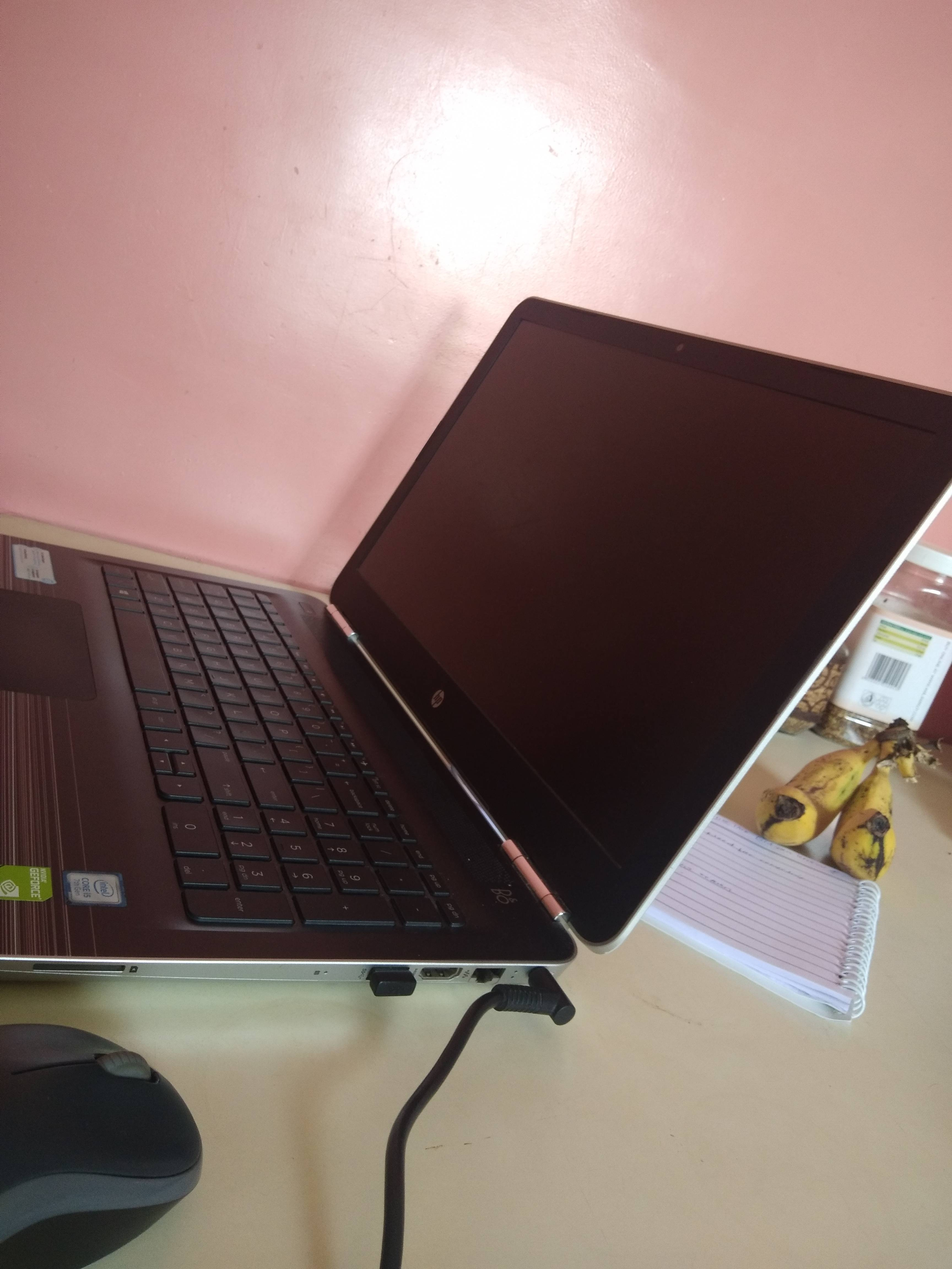Electronics: (0, 275, 952, 1045)
